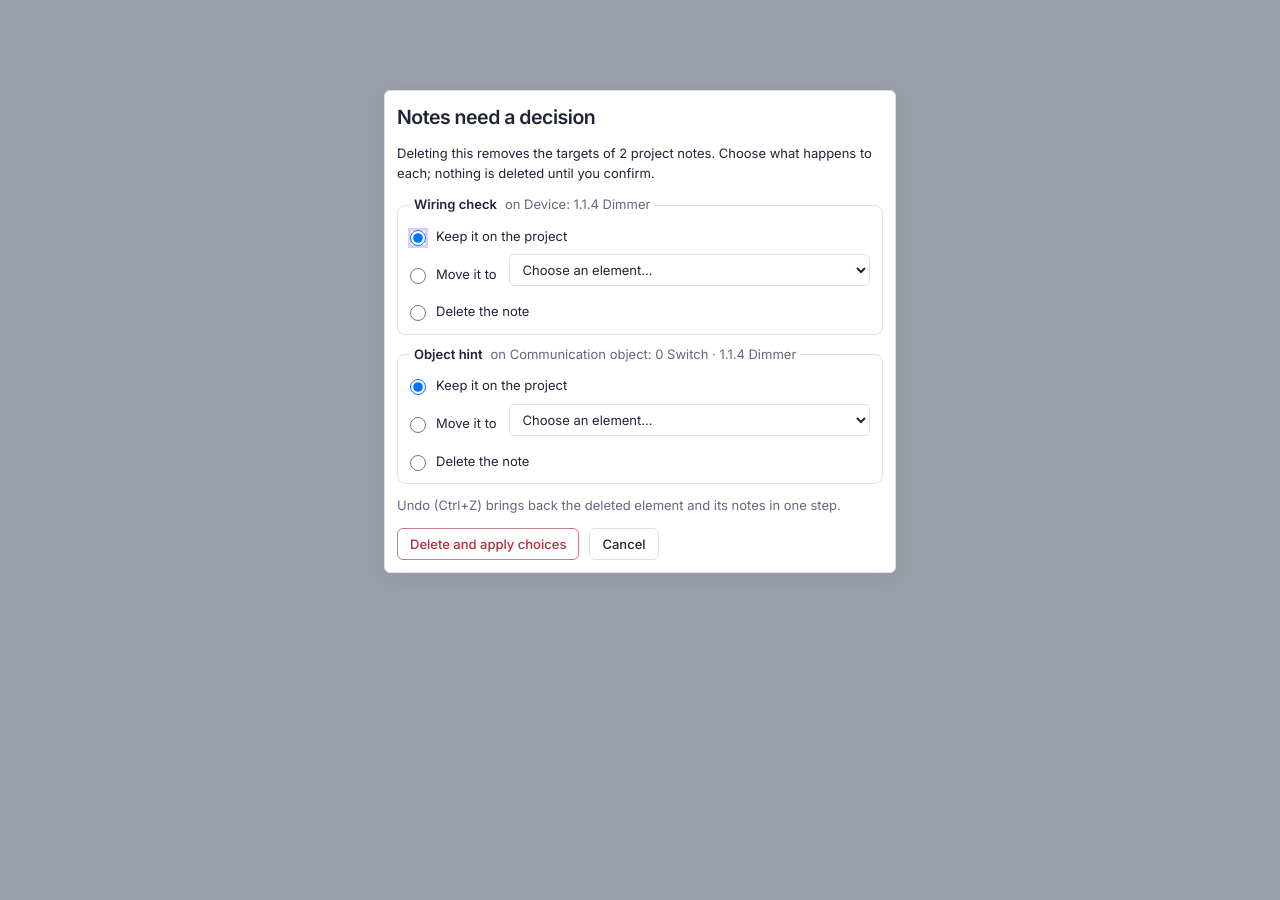
Test: offers only surviving elements as move targets and waits for one
Step 1. Click the radio button labelled "Move it to" below "Wiring check" → coordinates (418, 276), box [410,268,426,284]
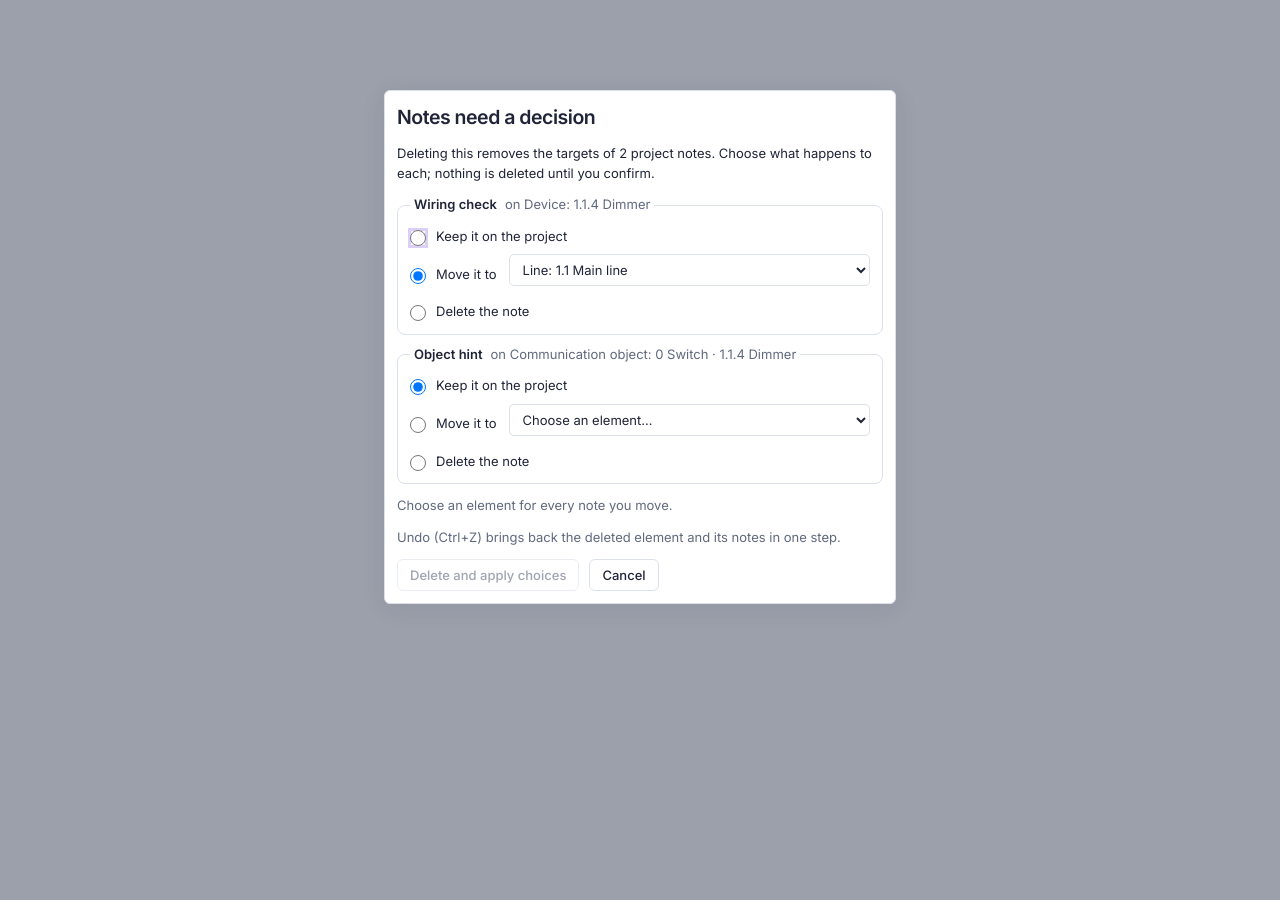
Result: the button "Delete and apply choices" is disabled at [397,559,579,591]
Step 2. Select "Line: 1.1 Main line" in the dropdown named "Element for “Wiring check”" → coordinates (689, 270), box [509,254,870,286]
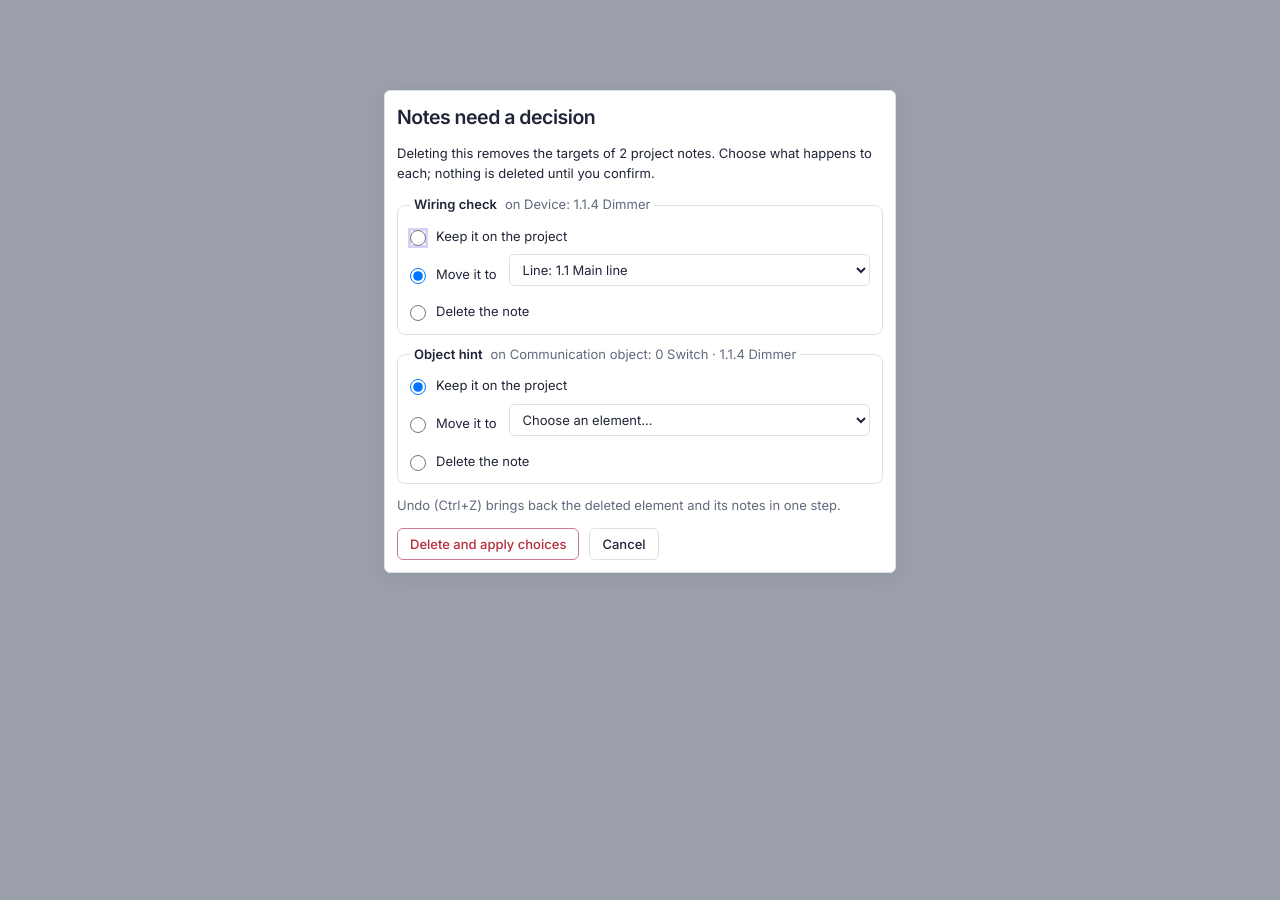
Result: the button "Delete and apply choices" is enabled at [397,528,579,560]
